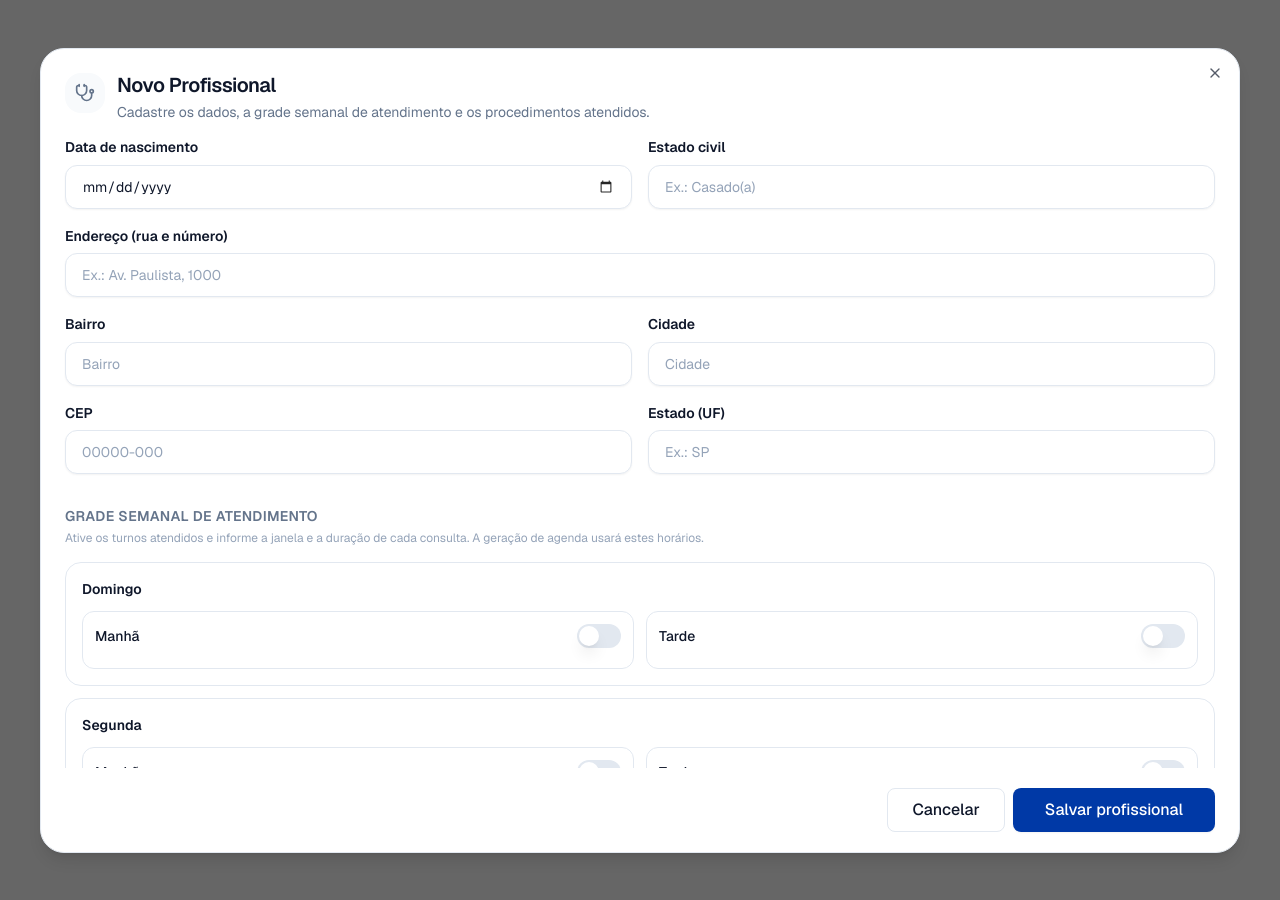
ProfissionalModal — CEP › avisa sem travar quando a rede falha
(page scrolled)
In the field with placeholder "00000-000": coordinates (348, 452) [65, 430, 632, 474], type "01310100"
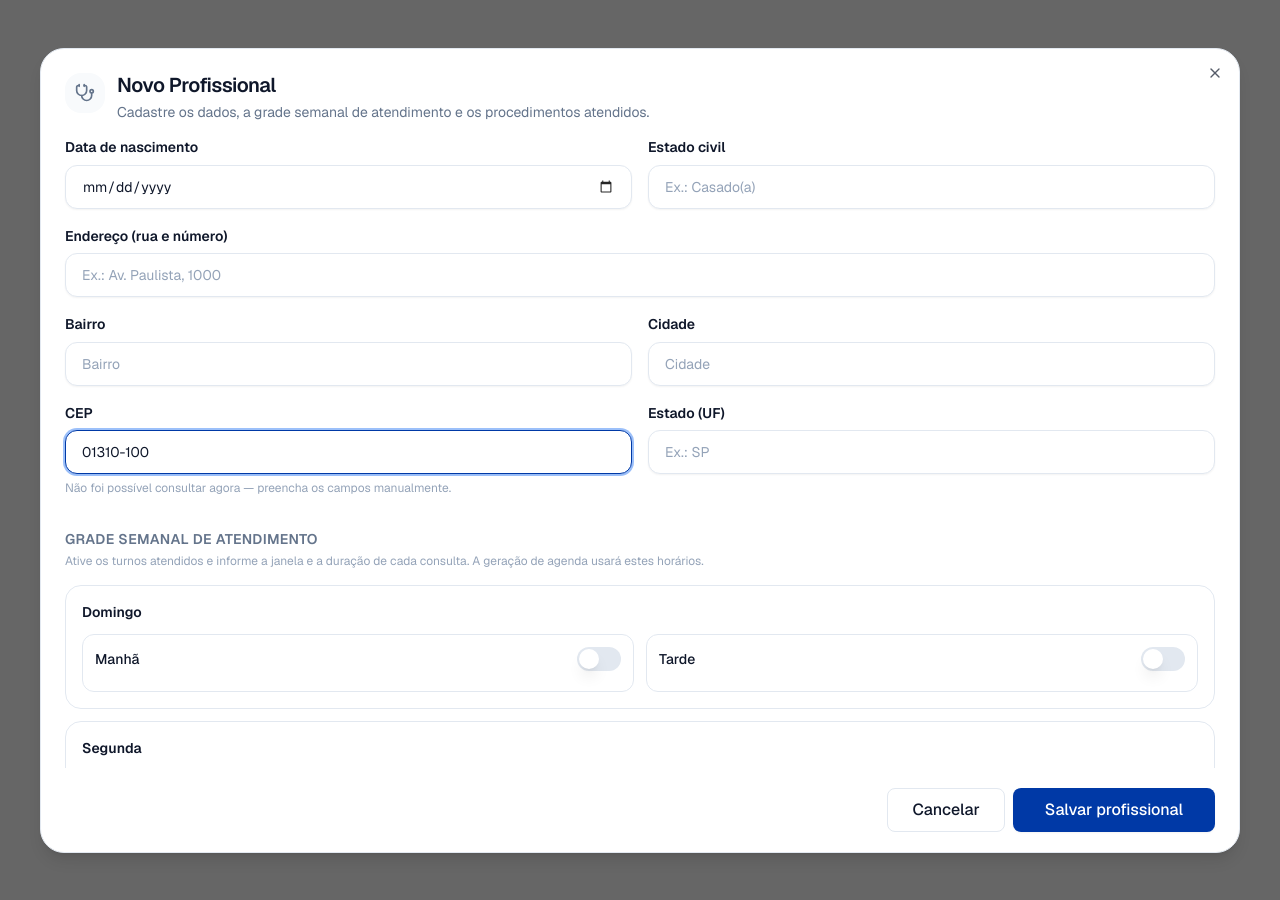
expect the field with placeholder "Bairro" is enabled: met, box [65, 342, 632, 386]
expect the text "Não foi possível consultar agora" is shown: met, box [65, 480, 451, 496]
